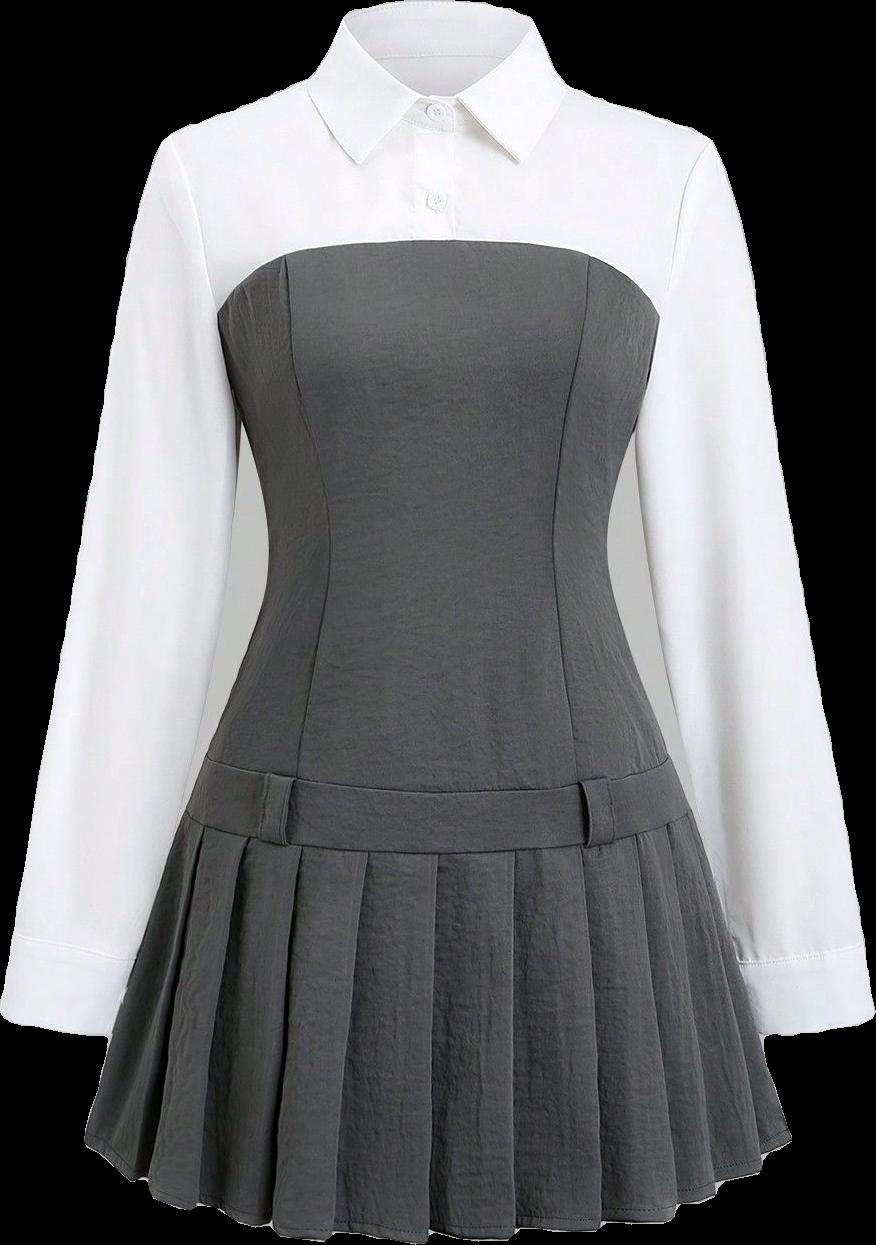Bodice: (164, 0, 703, 850)
Hemline: (82, 1131, 797, 1244)
Neckline: (219, 231, 656, 310), (206, 742, 668, 795), (339, 16, 538, 103)
Skirt: (85, 809, 791, 1244)
Sleeve: (636, 124, 875, 1042), (0, 137, 242, 1042)
Sleeveline: (160, 137, 228, 315), (647, 137, 712, 307)
Waistline: (181, 804, 695, 863)
